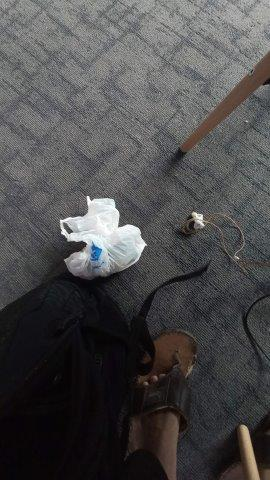plastik: (61, 197, 146, 278)
